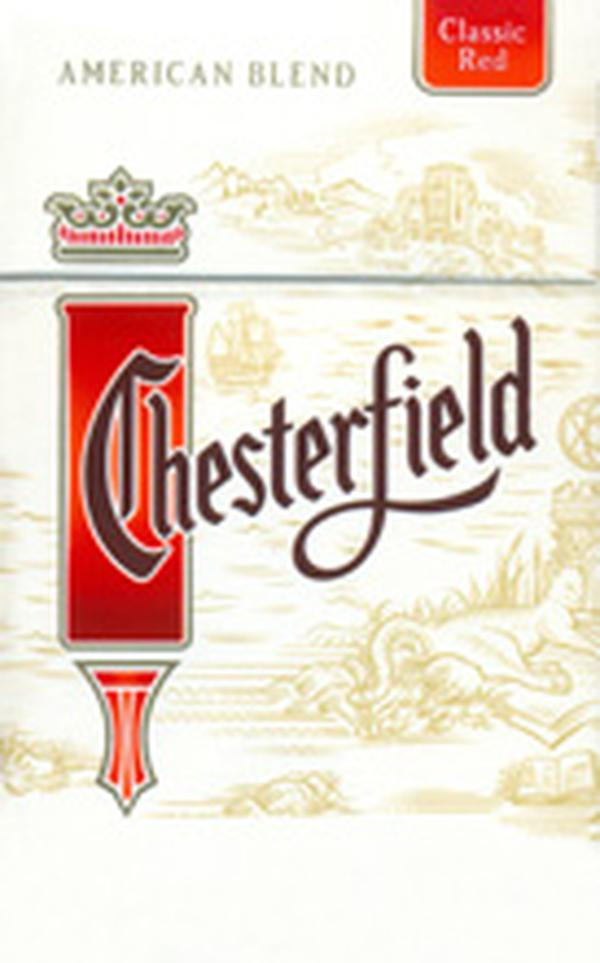chesterfield_red: (1, 1, 595, 958)
